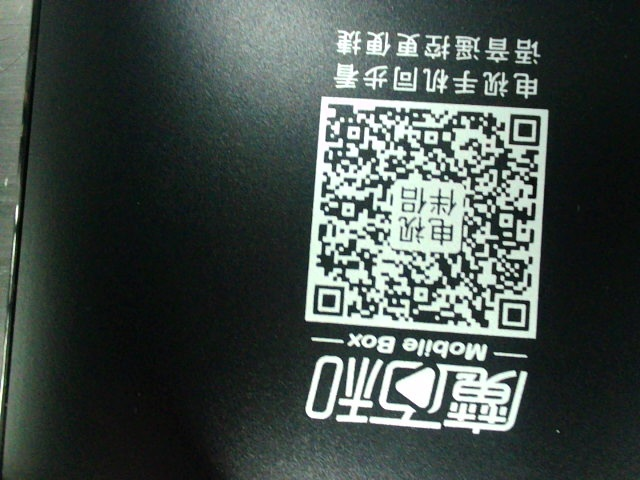AZ_MobileBox: (300, 25, 554, 435)
